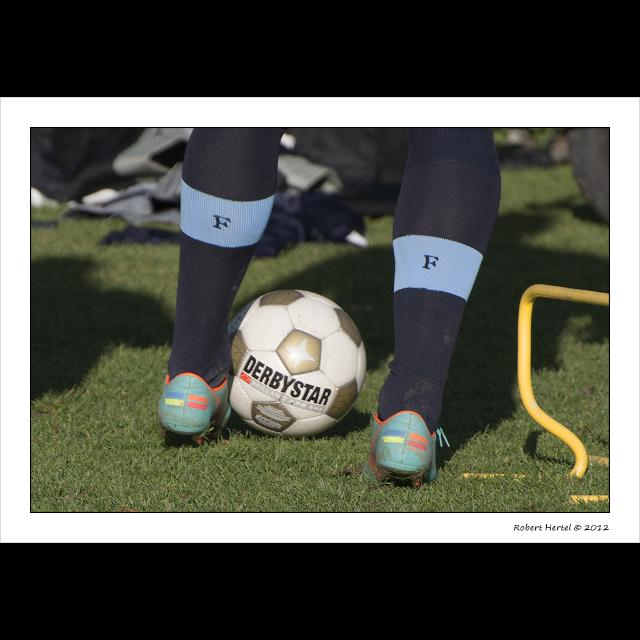Football: (223, 289, 369, 435)
